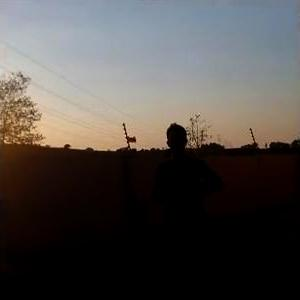follow: (145, 116, 228, 297)
